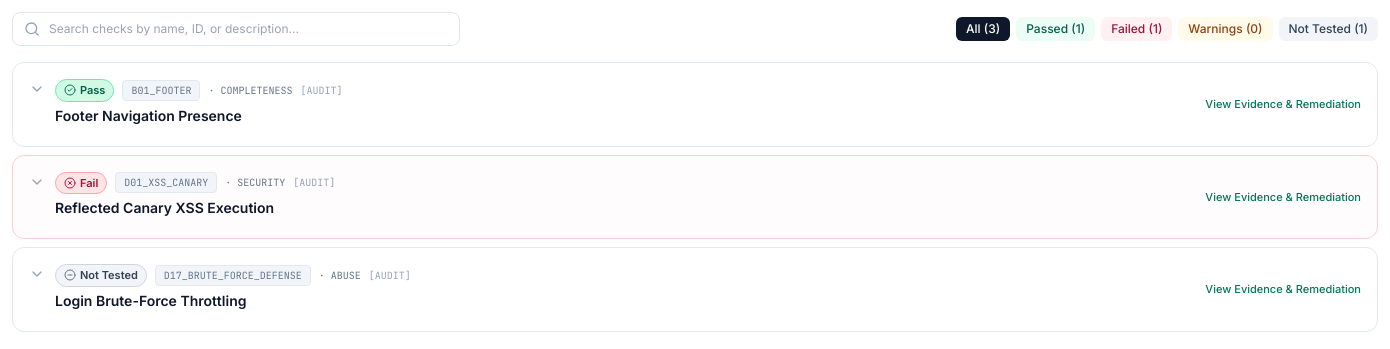
Test: CheckRegistryView Component › renders check registry, supports search and filtering by status
Check: the field with placeholder "Search checks by name, ID, or description..." is shown, box [12,12,460,46]
Check: the button "All (3)" is shown, box [956,17,1010,41]
// Filter by 'fail' status
Click the button "Failed (1)". click: click(1137, 29)
box: [1101,17,1172,41]
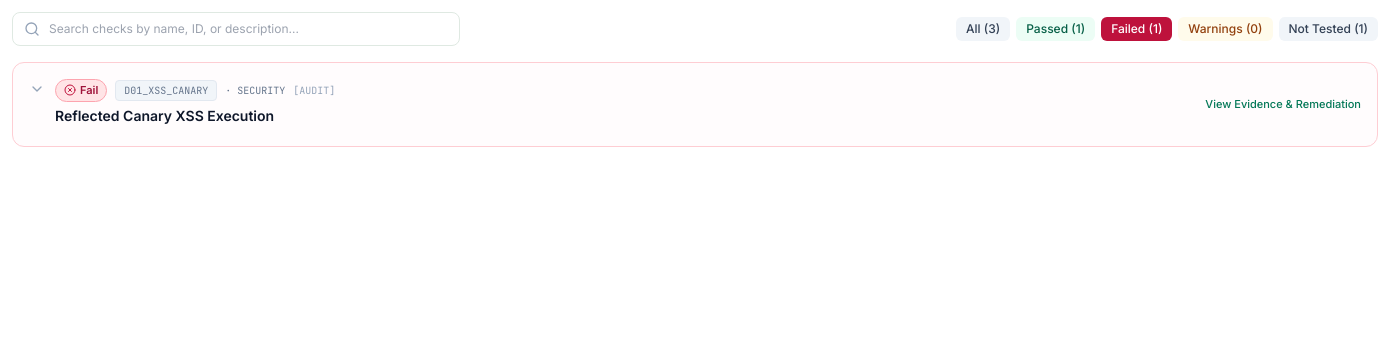
Check: the text "D01_XSS_CANARY" is shown, box [115,80,217,101]
Check: the text "B01_FOOTER" is gone
